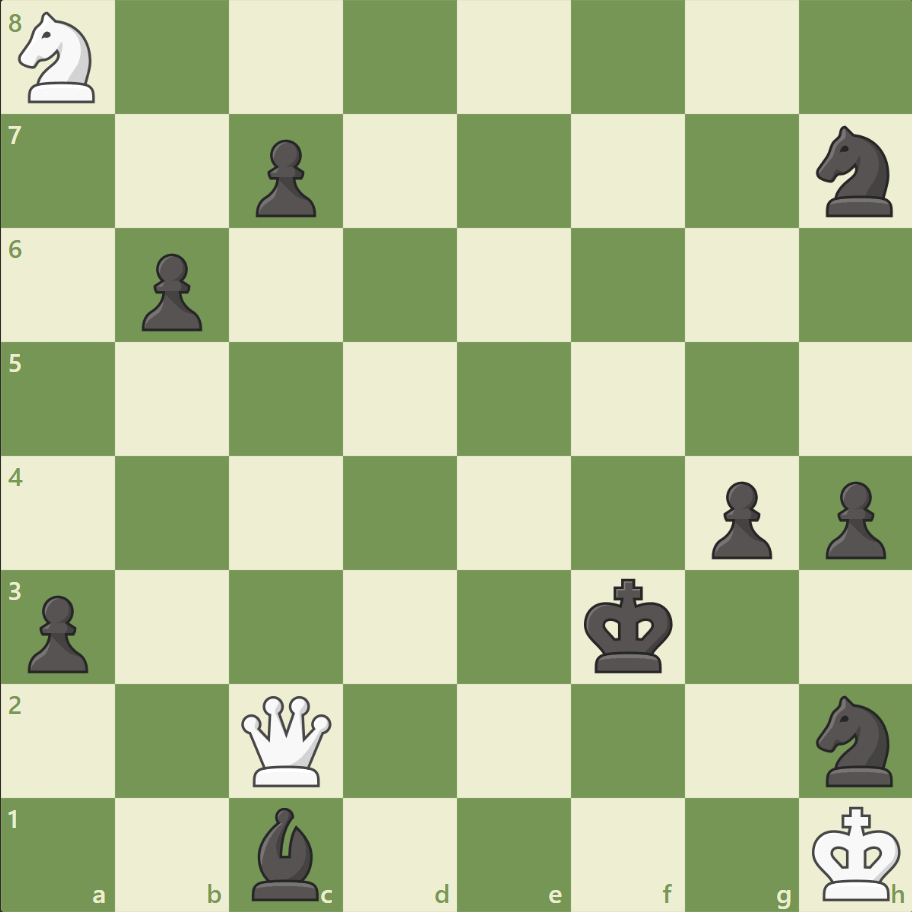K: (806, 798, 906, 906)
N: (11, 7, 108, 110)
Q: (237, 690, 336, 789)
b: (244, 801, 328, 904)
k: (579, 571, 679, 679)
n: (806, 688, 903, 791), (806, 121, 903, 223)
p: (247, 132, 322, 223), (133, 246, 208, 337), (701, 473, 776, 564), (20, 586, 95, 677), (815, 473, 889, 564)
